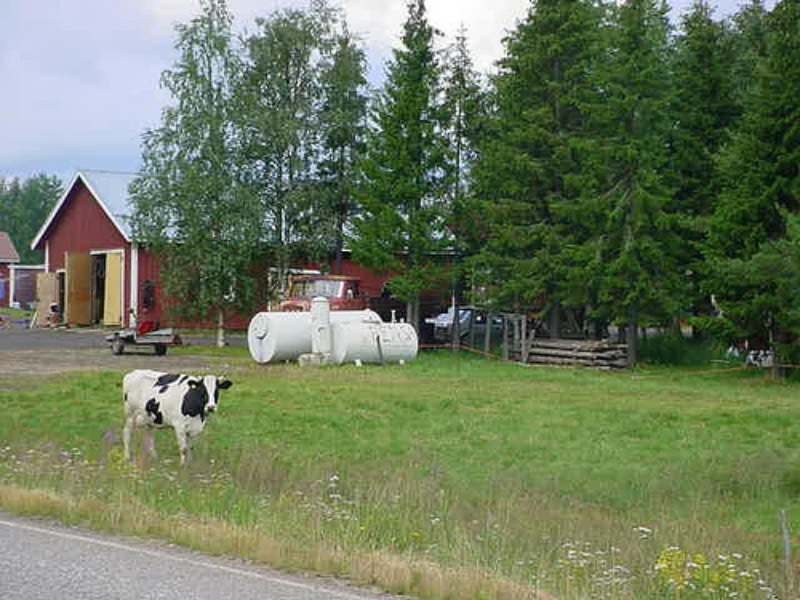car: (277, 275, 430, 315), (424, 306, 514, 331)
